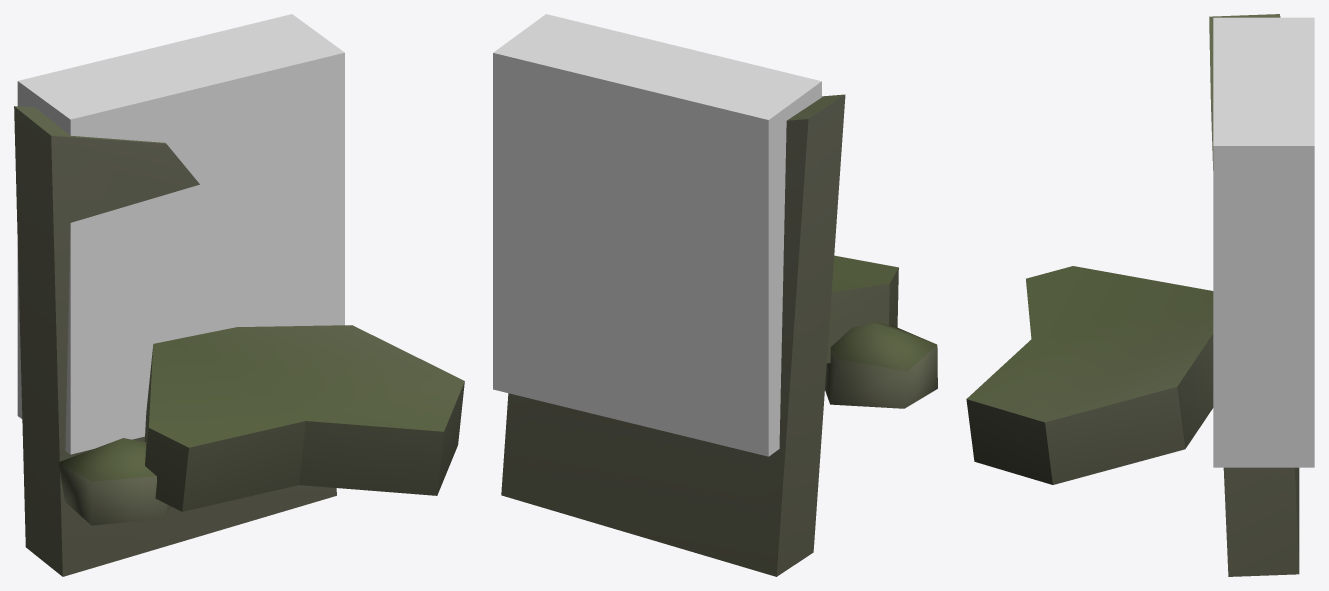
Rendered from gravestone_c.glb.
The picture shows the model from 3 angles, left to right: view 1: azimuth 30°, elevation 25°; view 2: azimuth 150°, elevation 25°; view 3: azimuth 270°, elevation 25°; orthographic projection. The views are drawn at different scales.
Parts seen in each view (by area): view 1: gravestone_c, COL_stone; view 2: COL_stone, gravestone_c; view 3: gravestone_c, COL_stone.
Boxes of the visible parts, box(x1,y1,x2,y2) form: gravestone_c: box(14, 106, 464, 576); COL_stone: box(17, 14, 344, 454); COL_stone: box(493, 14, 821, 456); gravestone_c: box(501, 94, 937, 576); gravestone_c: box(966, 14, 1299, 576); COL_stone: box(1213, 17, 1314, 467).
Size of the model in its own units: 0.7772 by 0.9678 by 0.6867.
